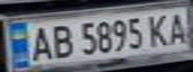5: (75, 19, 96, 55), (127, 15, 148, 51)
8: (93, 17, 115, 54)
9: (109, 17, 130, 52)
A: (24, 24, 54, 62), (163, 9, 193, 45)
B: (48, 21, 75, 60)
K: (145, 11, 175, 47)
